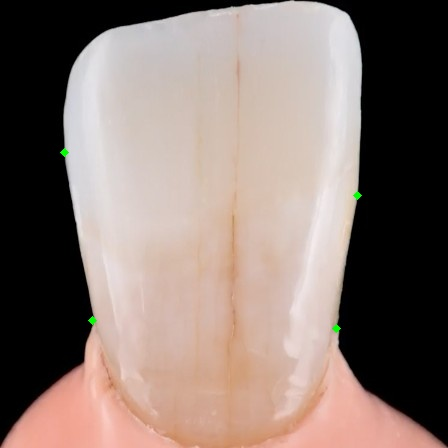coin_1: (92, 320, 112, 340)
coin_2: (64, 152, 84, 172)
coin_3: (336, 328, 356, 348)
coin_4: (357, 195, 377, 215)
